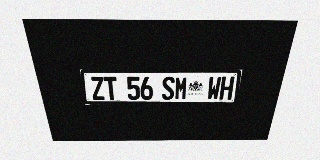5: (127, 77, 140, 100)
6: (140, 77, 153, 100)
H: (219, 76, 235, 100)
M: (174, 76, 188, 100)
S: (162, 77, 175, 100)
T: (103, 77, 118, 100)
W: (207, 76, 222, 100)
Z: (90, 77, 105, 100)
